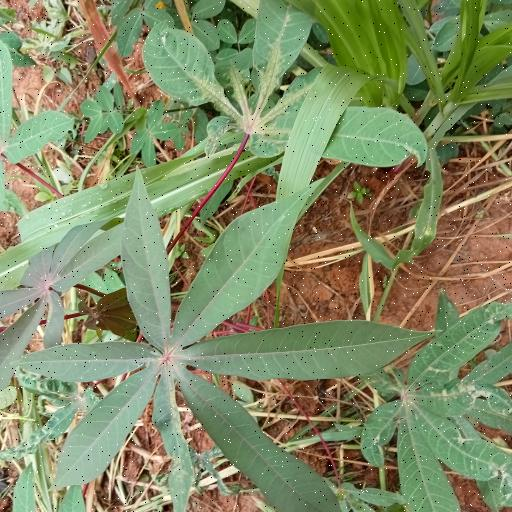Cassava_Mosaic: (26, 187, 398, 512), (152, 12, 420, 171), (365, 295, 512, 512)
